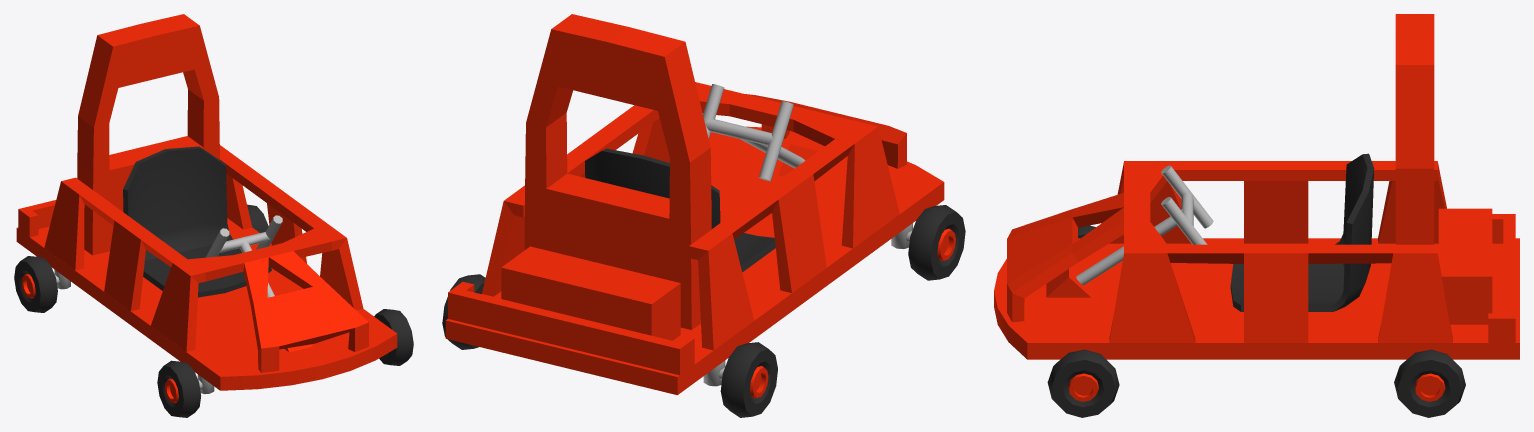
The model's file is Goblin Car Upright.fbx.
3 views of the same model, side by side, from view 1: azimuth 30°, elevation 25°; view 2: azimuth 150°, elevation 25°; view 3: azimuth 270°, elevation 25° (orthographic). The views are drawn at different scales.
Parts seen in each view (by area): view 1: Main Chassis, Seat, BR Wheel, FR Wheel, Steering Wheel, FL Wheel, BL Wheel, Rotor; view 2: Main Chassis, Seat, FR Wheel, BR Wheel, Steering Wheel, BL Wheel, Rotor; view 3: Main Chassis, Seat, BL Wheel, FL Wheel, Steering Wheel.
Boxes of the visible parts, x1,y1,x2,y2 form: Main Chassis: (16, 14, 397, 390); Seat: (123, 146, 271, 297); BR Wheel: (14, 256, 57, 312); FR Wheel: (157, 360, 200, 417); Steering Wheel: (205, 215, 282, 297); FL Wheel: (374, 309, 413, 365); BL Wheel: (247, 204, 268, 232); Rotor: (54, 269, 214, 394); Main Chassis: (445, 14, 944, 395); Seat: (585, 148, 775, 272); FR Wheel: (908, 205, 965, 280); BR Wheel: (720, 342, 777, 417); Steering Wheel: (703, 84, 805, 181); BL Wheel: (442, 274, 485, 349); Rotor: (703, 223, 912, 386); Main Chassis: (994, 14, 1519, 359); Seat: (1230, 153, 1374, 311); BL Wheel: (1394, 349, 1465, 417); FL Wheel: (1047, 349, 1119, 417); Steering Wheel: (1076, 165, 1213, 284).
Bounding box in the file's own units: 1.3 × 1.4 × 2.13.
